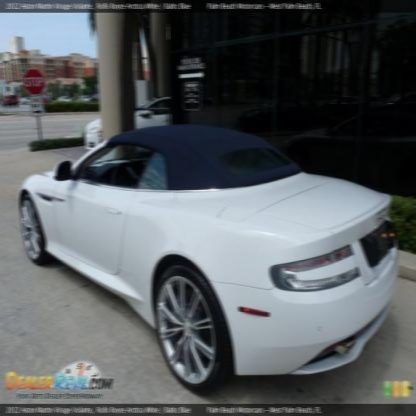Vehicle: (18, 122, 400, 394)
